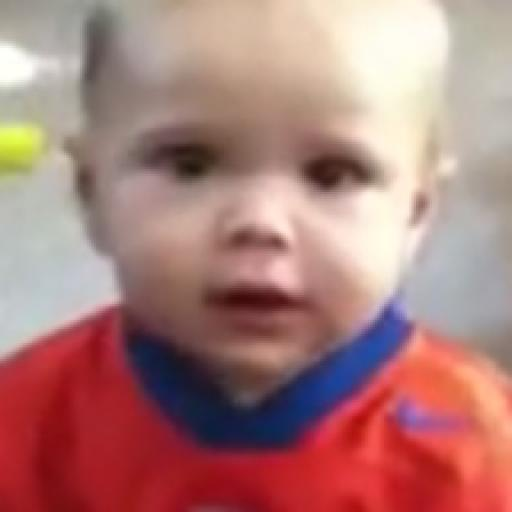Autism: (64, 0, 427, 435)
